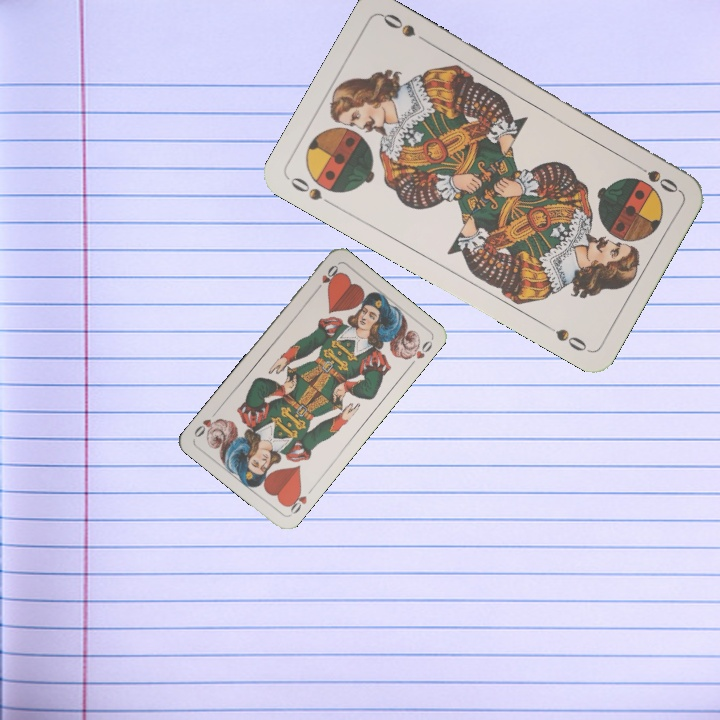HO: (311, 261, 341, 295), (283, 485, 310, 518)
SO: (628, 157, 681, 196), (286, 173, 338, 210)
